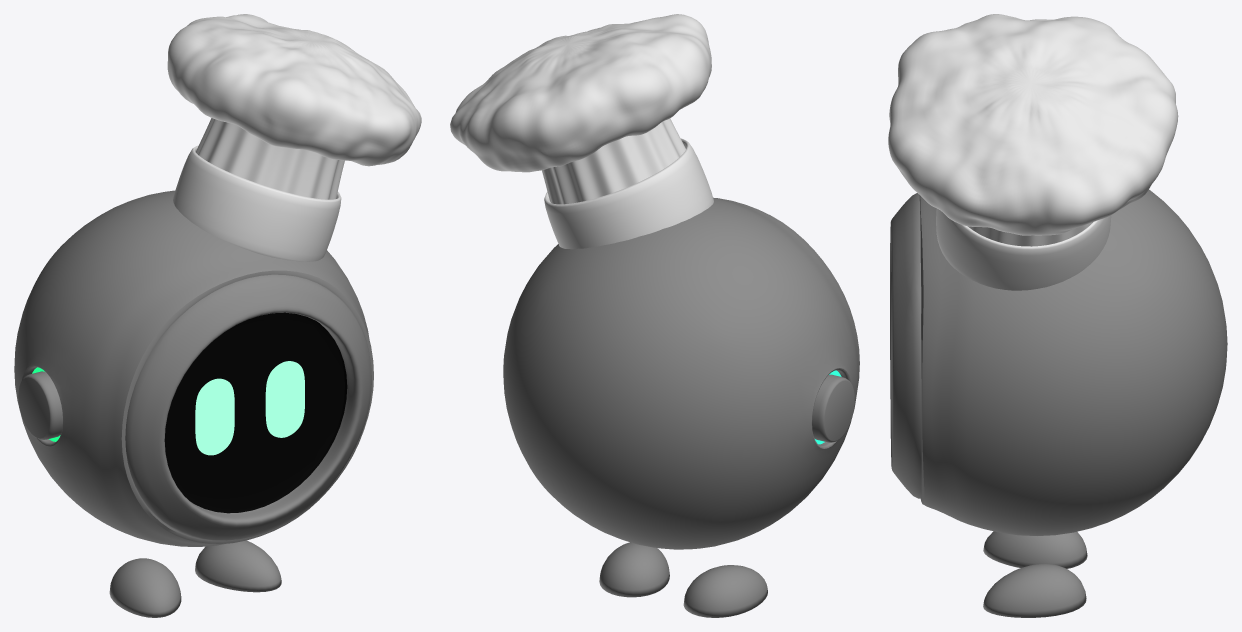
File: robot.glb
3 views of the same model, side by side, from view 1: azimuth 30°, elevation 25°; view 2: azimuth 150°, elevation 25°; view 3: azimuth 270°, elevation 25° (orthographic). The views are drawn at different scales.
Parts seen in each view (by area): view 1: body, hat, chef hat, eyes, Sphere.003, Sphere.002, button; view 2: body, hat, chef hat, Sphere.002, Sphere.003, button; view 3: body, hat, chef hat, Sphere.003, Sphere.002.
Part boxes in pixels (bbox=[...]): body: bbox=[14, 190, 373, 546]; hat: bbox=[167, 14, 421, 199]; chef hat: bbox=[173, 145, 341, 261]; eyes: bbox=[195, 361, 304, 455]; Sphere.003: bbox=[195, 540, 281, 592]; Sphere.002: bbox=[109, 558, 181, 617]; button: bbox=[18, 367, 62, 441]; body: bbox=[503, 197, 859, 549]; hat: bbox=[450, 14, 711, 204]; chef hat: bbox=[544, 138, 713, 249]; Sphere.002: bbox=[683, 565, 767, 617]; Sphere.003: bbox=[599, 542, 669, 597]; button: bbox=[812, 370, 854, 444]; body: bbox=[890, 189, 1227, 535]; hat: bbox=[888, 14, 1178, 246]; chef hat: bbox=[936, 208, 1111, 290]; Sphere.003: bbox=[983, 564, 1086, 617]; Sphere.002: bbox=[983, 531, 1087, 568].
Size of the model in its own units: 2.01 by 2.81 by 1.5.
